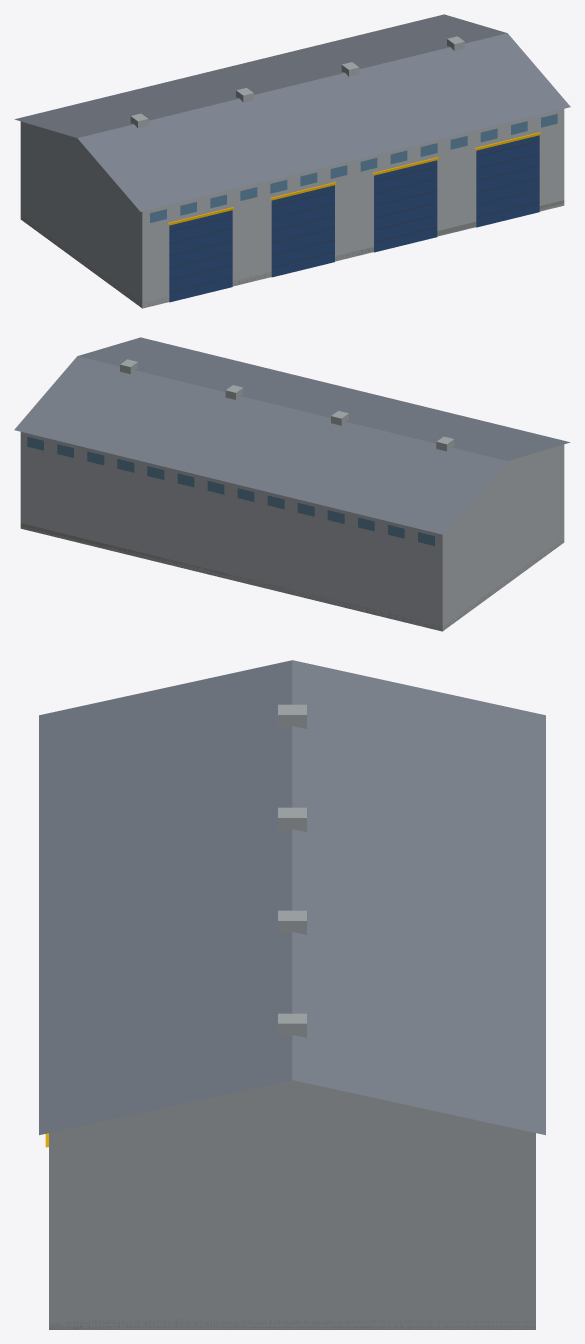
File: building-workshop.glb
The picture shows the model from 3 angles, top to bottom: view 1: azimuth 30°, elevation 25°; view 2: azimuth 150°, elevation 25°; view 3: azimuth 270°, elevation 25°; orthographic projection. The views are drawn at different scales.
Visible parts, largest first — view 1: building; view 2: building; view 3: building.
Part boxes in pixels (left/top/right/bottom): building: left=14, top=14, right=570, bottom=308; building: left=14, top=337, right=570, bottom=631; building: left=39, top=660, right=545, bottom=1329.
Size of the model in its own units: 40.8 by 12 by 20.8.
Materials: 1 (1 with a texture image).
